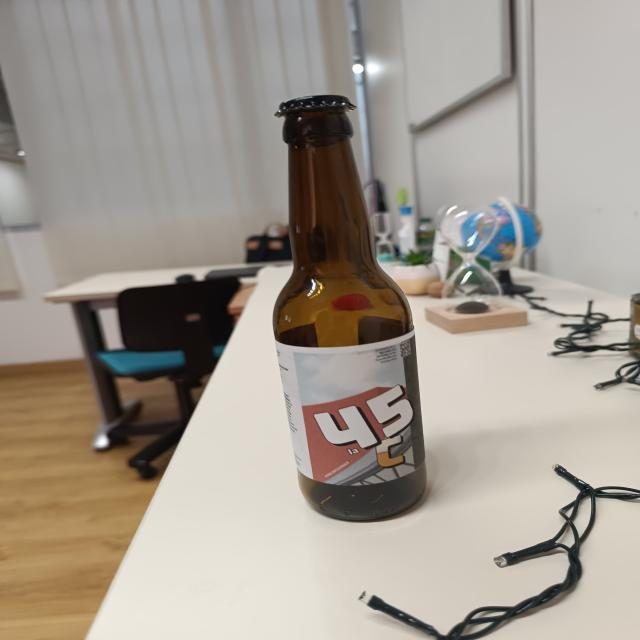Bottle: (269, 92, 428, 521)
Cap: (272, 93, 361, 119)
Label: (271, 336, 423, 488)
